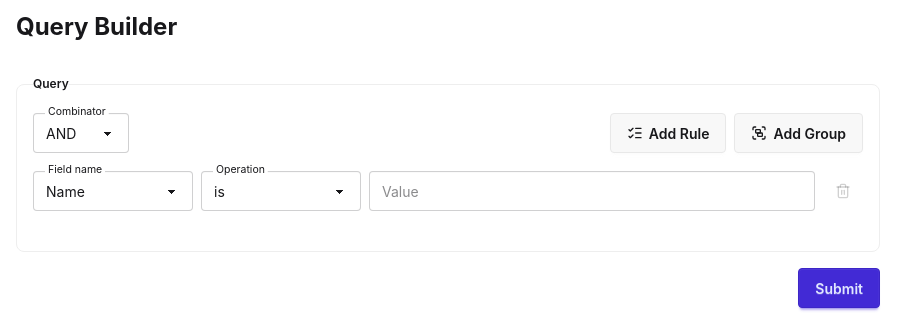
Test: rule fields › transaction_state renders its own widget
Select "Transaction state" in the dropdown labelled "Field name" at (113, 191), box [33,171,193,211]
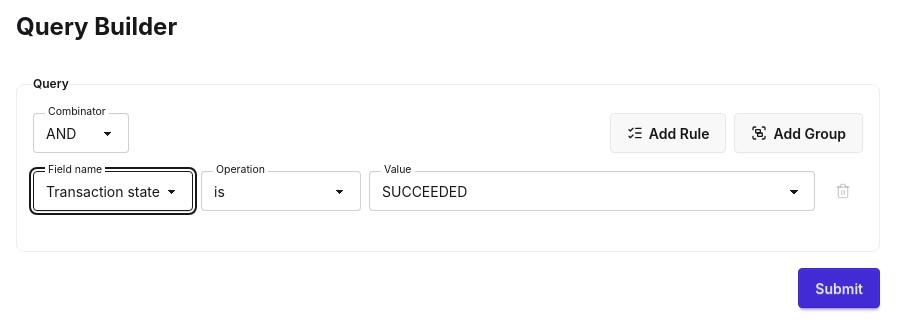
Result: the dropdown labelled "Value" is shown at [369,171,815,211]
